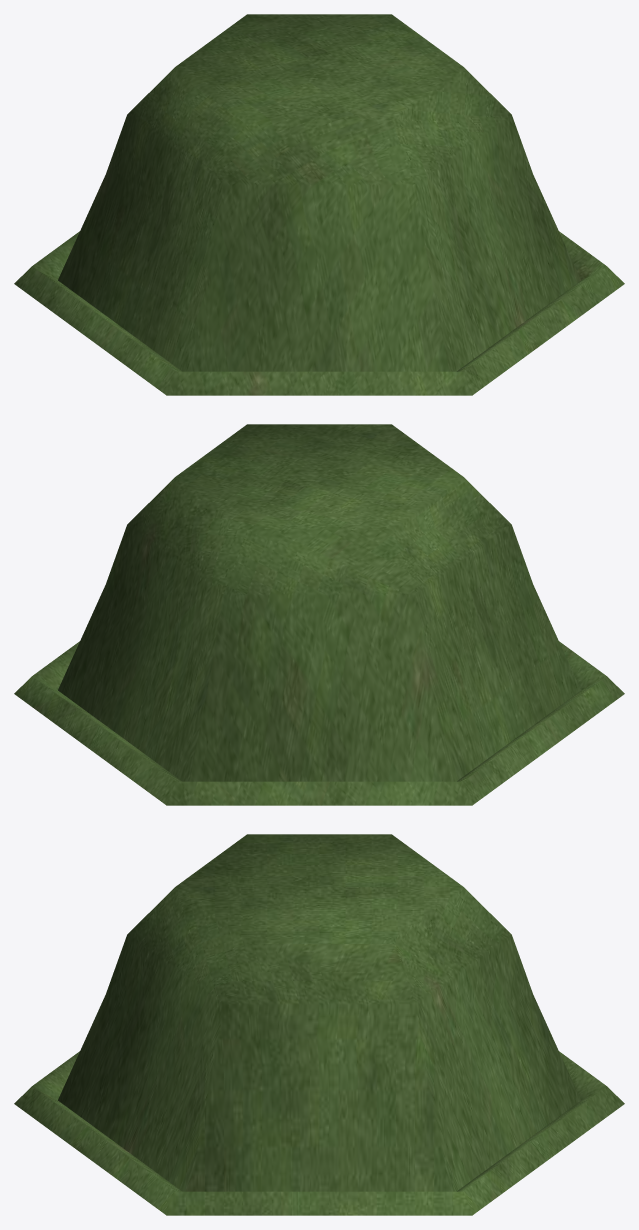
File: hills.glb
3 views of the same model, one above another, from view 1: azimuth 30°, elevation 25°; view 2: azimuth 150°, elevation 25°; view 3: azimuth 270°, elevation 25° (orthographic).
Parts seen in each view (by area): view 1: HexagonTile.007; view 2: HexagonTile.007; view 3: HexagonTile.007.
Part boxes in pixels (left/top/right/bottom): HexagonTile.007: left=14, top=14, right=624, bottom=395; HexagonTile.007: left=14, top=424, right=624, bottom=805; HexagonTile.007: left=14, top=834, right=624, bottom=1215.
Bounding box in the file's own units: 1.73 × 0.7825 × 2.
1 material, 1 textured.
